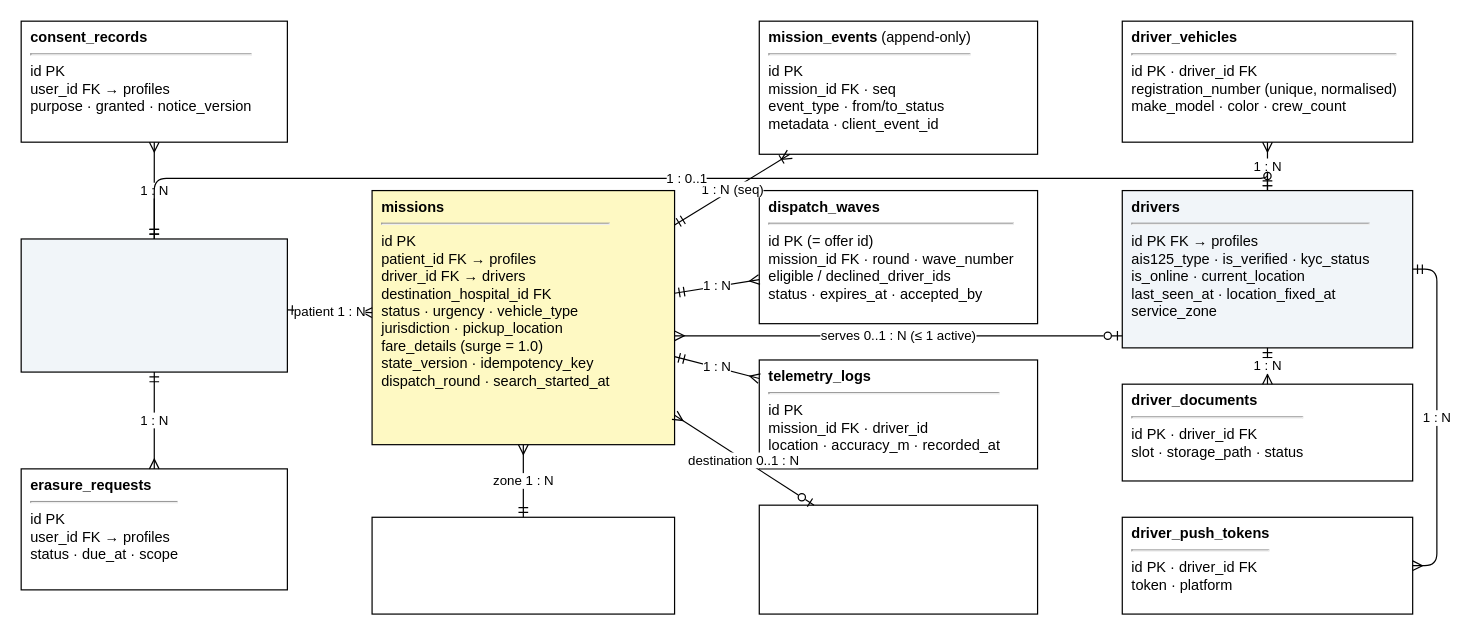
Image size: 1471x635. Some labels were removed from this diagram. The centre of each missing label's shape, as x and y in pixels:
"hospitals id PK location · zone total / held_capacity" goes at (x=898, y=559).
"jurisdictions zone PK (DL | UP) boundary · statutory_order_ref" goes at (x=523, y=565).
"profiles id PK (= auth user) role · full_name · phone preferred_language" goes at (x=153, y=305).
